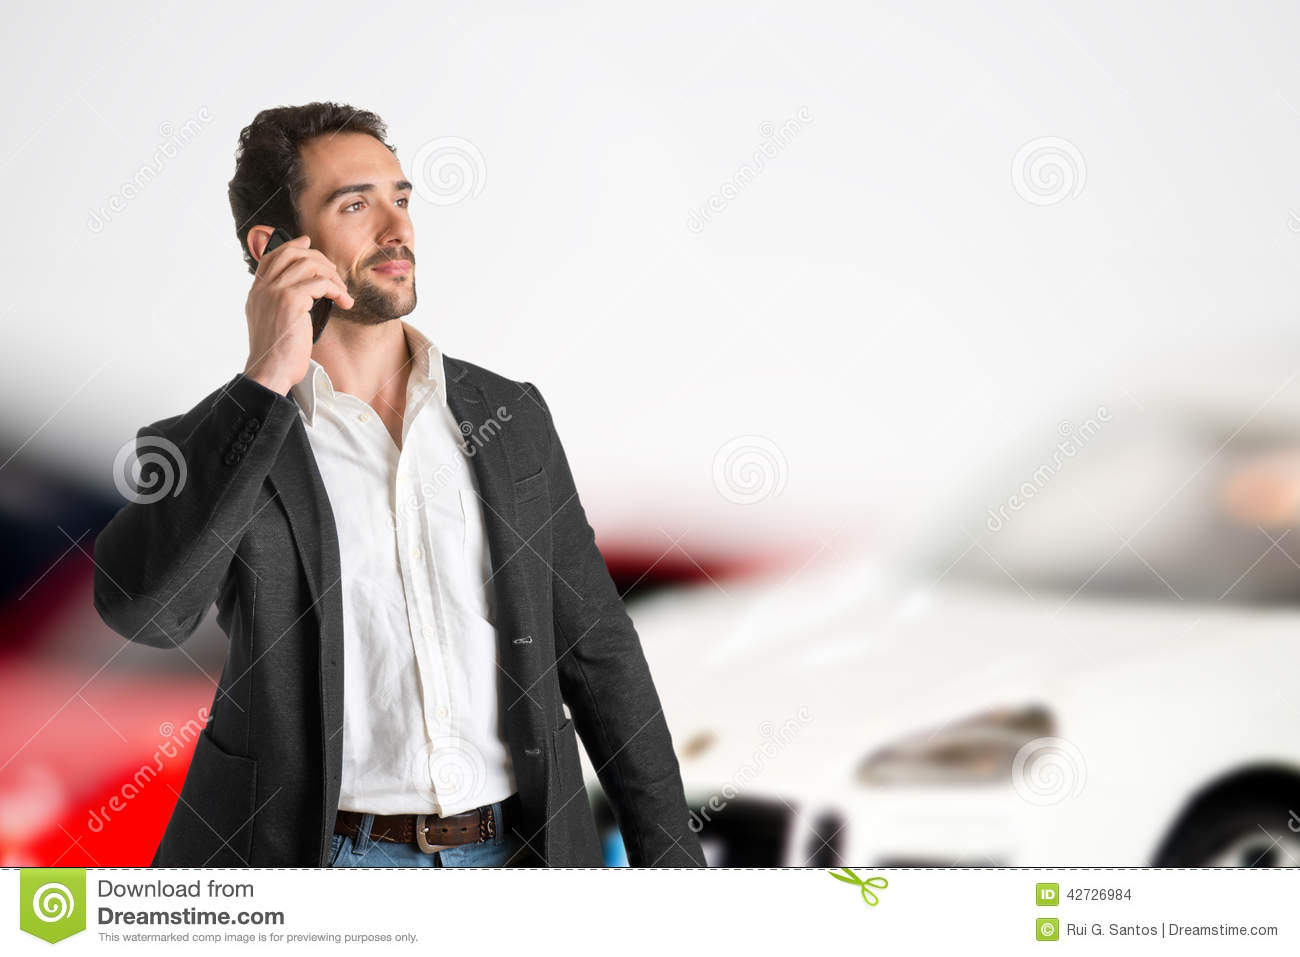phone: (261, 227, 332, 345)
talk: (245, 177, 414, 394)
